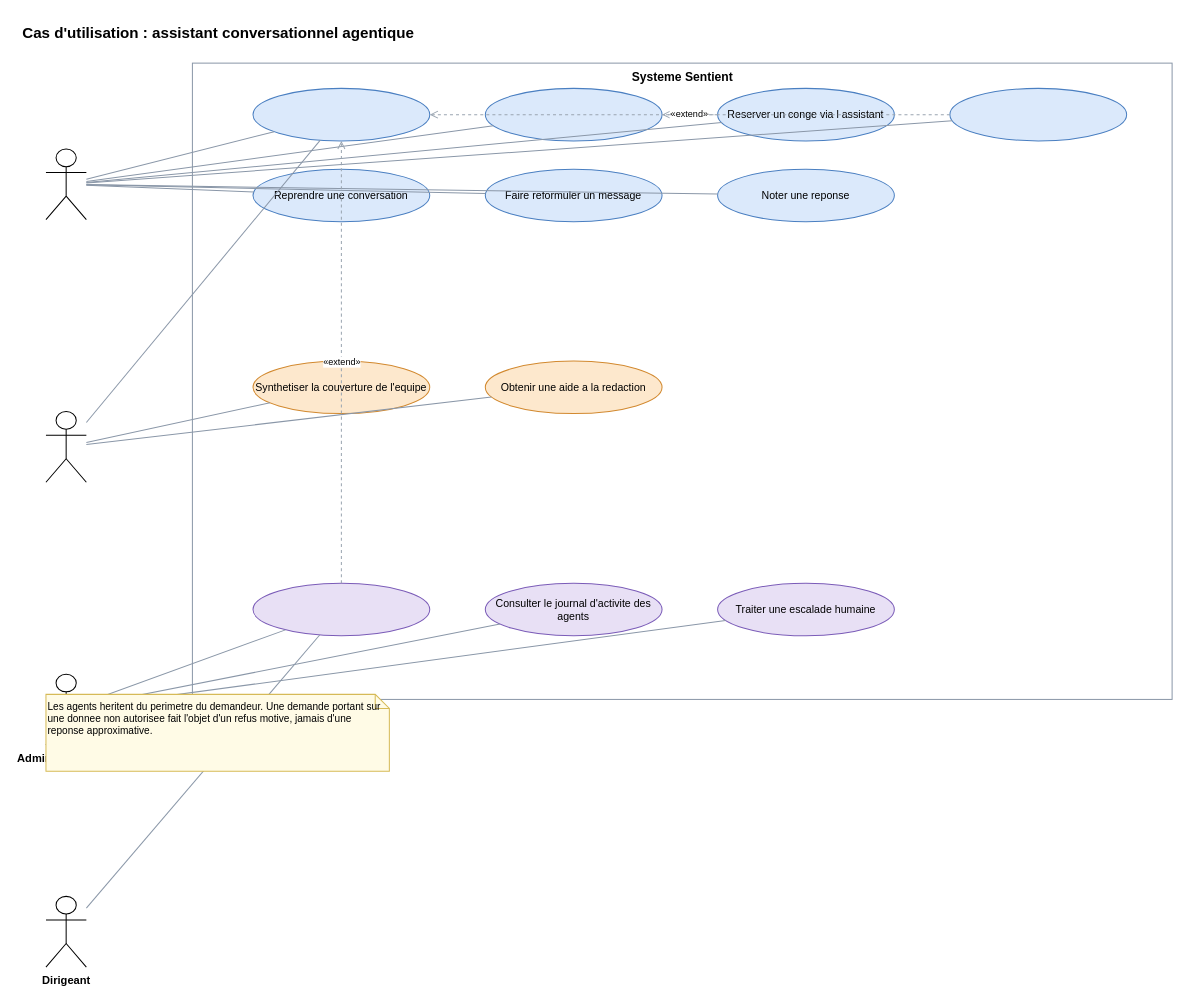
The diagram is 1190 pixels wide and 1004 high, and some of its shapes have lost their labels. The centre of each missing label's shape, as x and y in pixels:
Consulter ses soldes via l assistant: the point at 573,114
Employe: the point at 65,184
Interroger les donnees en langage naturel: the point at 341,609
Interroger une politique interne: the point at 1038,114
Manager: the point at 65,446
Poser une question en langage naturel: the point at 341,114
